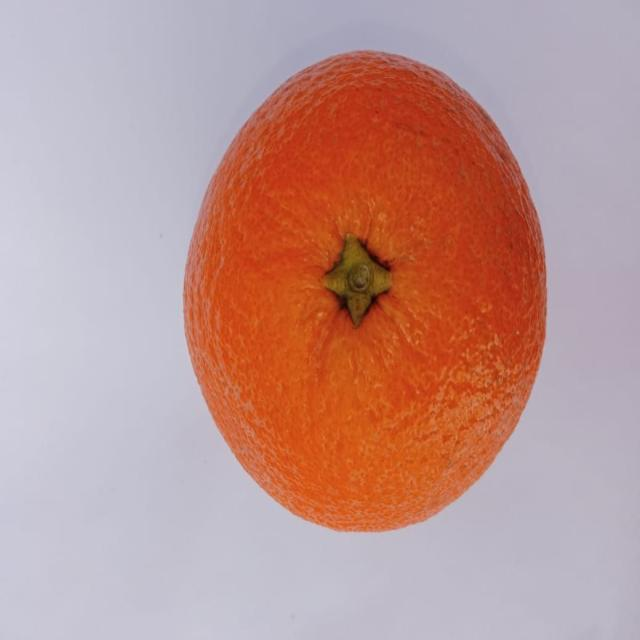fresh_orange: (183, 49, 547, 534)
